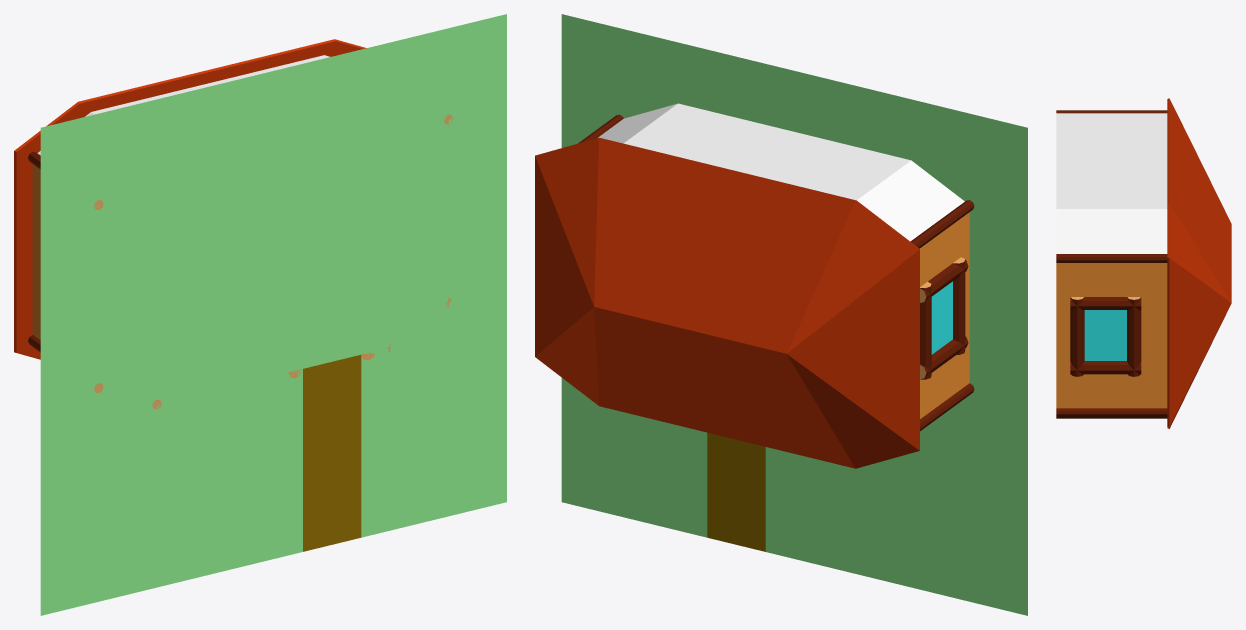
File: house.dae
3 views of the same model, side by side, from view 1: azimuth 30°, elevation 25°; view 2: azimuth 150°, elevation 25°; view 3: azimuth 270°, elevation 25° (orthographic). The views are drawn at different scales.
Visible parts, largest first — view 1: group_36 (×2), group_35, group_32, group_0; view 2: group_36 (×2), group_35, group_0, group_32 (×2), group_5 (×2); view 3: group_0, group_35, group_32 (×2), group_5 (×11).
Boxes of the visible parts, x1,y1,x2,y2 form: group_36 (×2): (40, 14, 506, 615); group_35: (14, 39, 366, 359); group_32: (32, 164, 40, 340); group_0: (37, 55, 329, 155); group_36 (×2): (561, 14, 1027, 615); group_35: (535, 137, 919, 468); group_0: (598, 103, 964, 241); group_32 (×2): (920, 212, 969, 418); group_5 (×2): (920, 277, 964, 364); group_0: (1056, 113, 1167, 253); group_35: (1167, 98, 1231, 428); group_32 (×2): (1056, 263, 1167, 408); group_5 (×11): (1056, 110, 1167, 416).
Size of the model in its own units: 2 by 0.775 by 2.
